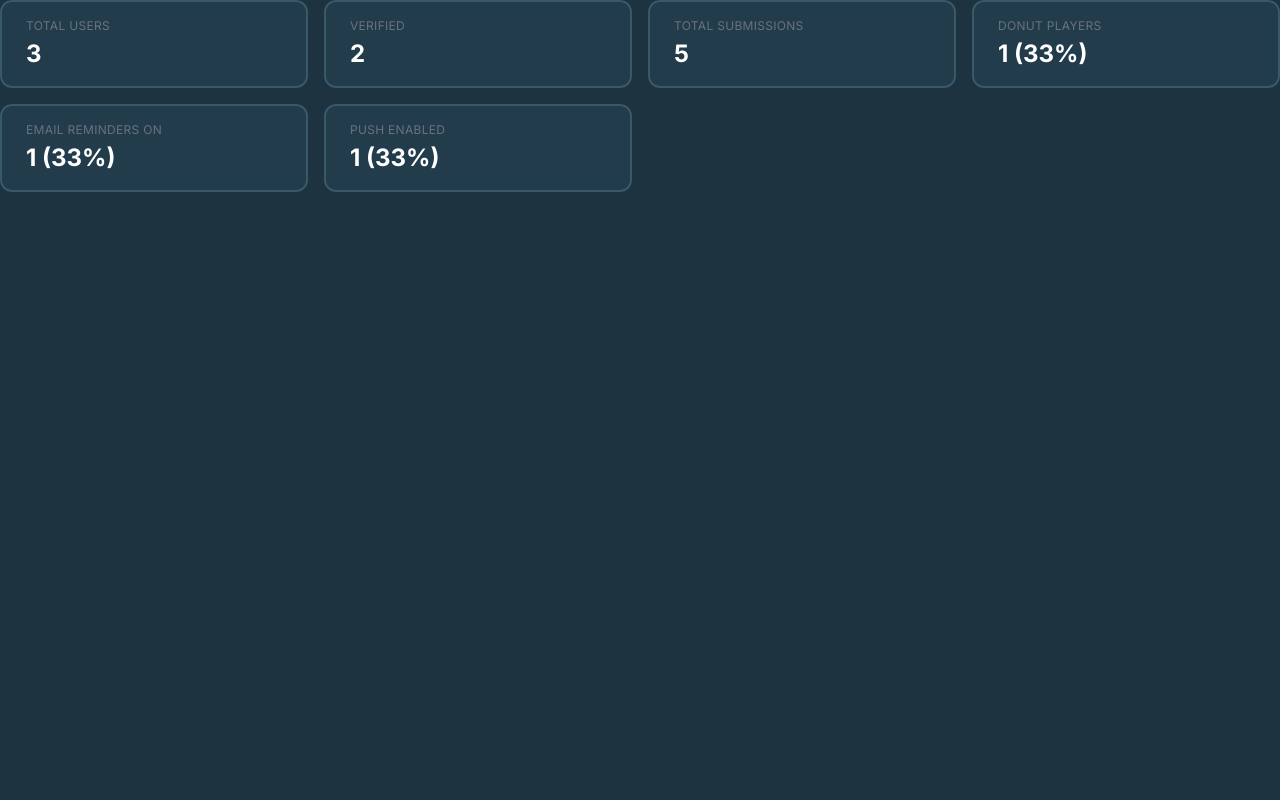
Test case: usage › the Total Submissions tile opens a filtered user list
Click the button "Total Submissions 5".
click(802, 44)  # box [648,0,956,88]
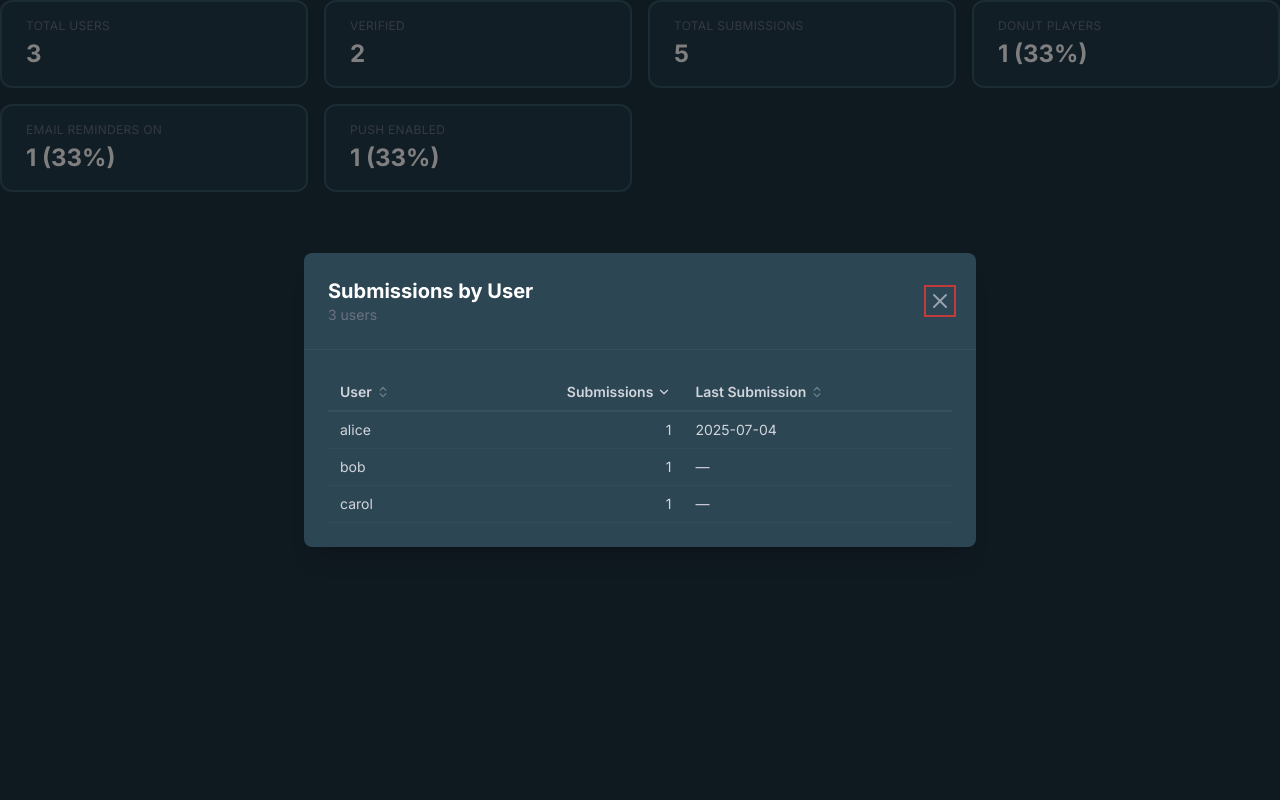
Result: the heading "Submissions by User" is shown at [328,277,533,305]
